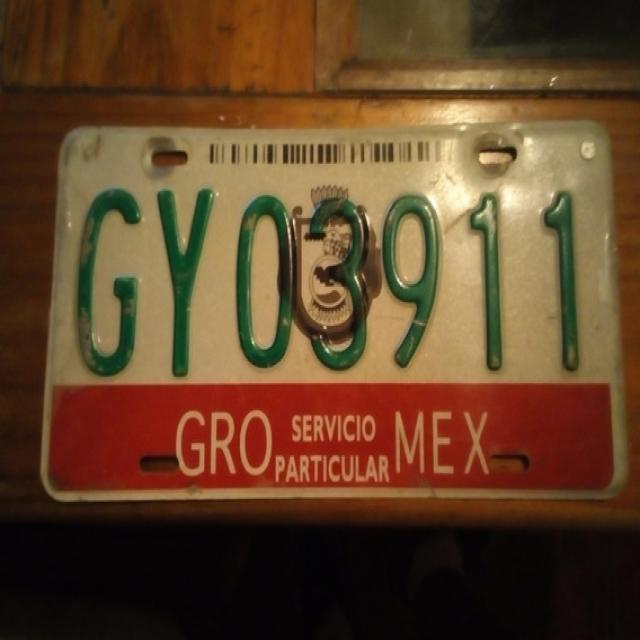placa: (65, 173, 596, 384)
